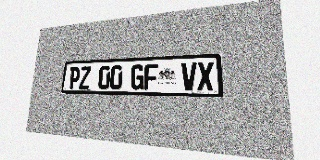0: (109, 65, 123, 90), (98, 66, 111, 89)
F: (144, 64, 158, 90)
G: (130, 64, 144, 90)
P: (68, 67, 80, 89)
V: (181, 62, 197, 90)
X: (197, 62, 214, 91)
Z: (79, 66, 91, 89)
